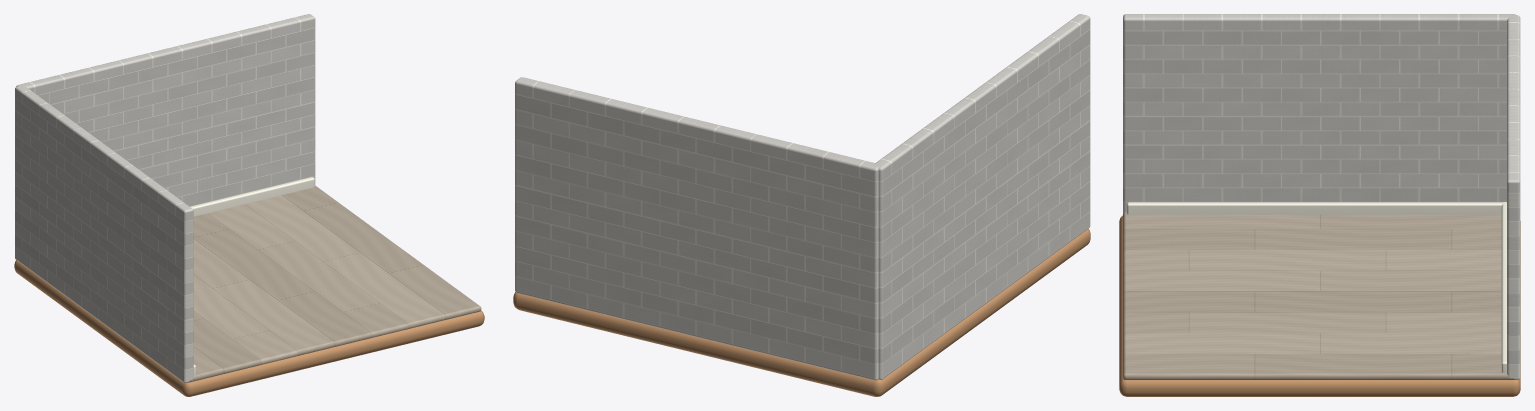
File: room10.glb
The picture shows the model from 3 angles, left to right: view 1: azimuth 30°, elevation 25°; view 2: azimuth 150°, elevation 25°; view 3: azimuth 270°, elevation 25°; orthographic projection. The views are drawn at different scales.
Parts seen in each view (by area): view 1: Back wall, Cream floor, Left wall, Rounded room foundation, Back skirting; view 2: Back wall, Left wall, Rounded room foundation; view 3: Left wall, Cream floor, Rounded room foundation, Back wall, Left skirting, Back skirting.
Boxes of the visible parts, box(x1,y1,x2,y2) form: Back wall: box(16, 14, 315, 206); Cream floor: box(188, 185, 481, 382); Left wall: box(15, 85, 193, 382); Rounded room foundation: box(14, 260, 484, 396); Back skirting: box(190, 177, 314, 216); Back wall: box(515, 77, 879, 380); Left wall: box(874, 14, 1090, 379); Rounded room foundation: box(513, 229, 1090, 396); Left wall: box(1123, 14, 1515, 213); Cream floor: box(1123, 212, 1514, 379); Rounded room foundation: box(1119, 215, 1520, 396); Back wall: box(1507, 15, 1520, 379); Left skirting: box(1127, 202, 1506, 214); Back skirting: box(1501, 202, 1506, 372).
Size of the model in its own units: 5.1 by 3.04 by 5.1.
4 materials, 2 textured.
